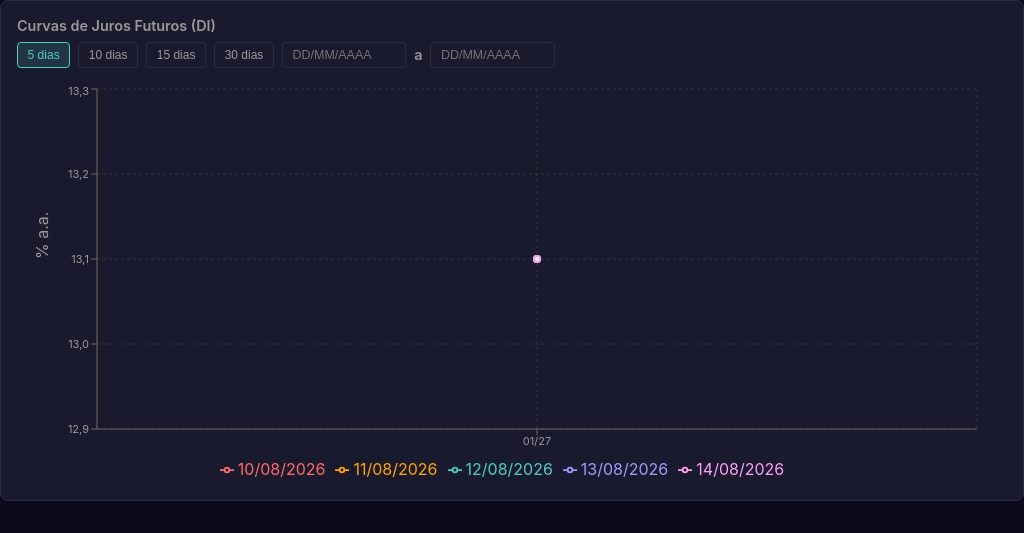
it: YieldCurveChart custom ranges › rejects Data final = 29/02/2026 instead of treating it as a valid boundary
The image size is (1024, 533).
Type "29/02/2026" into the field named "Data final".
click(492, 55); type("29/02/2026")  # box [430,42,555,68]
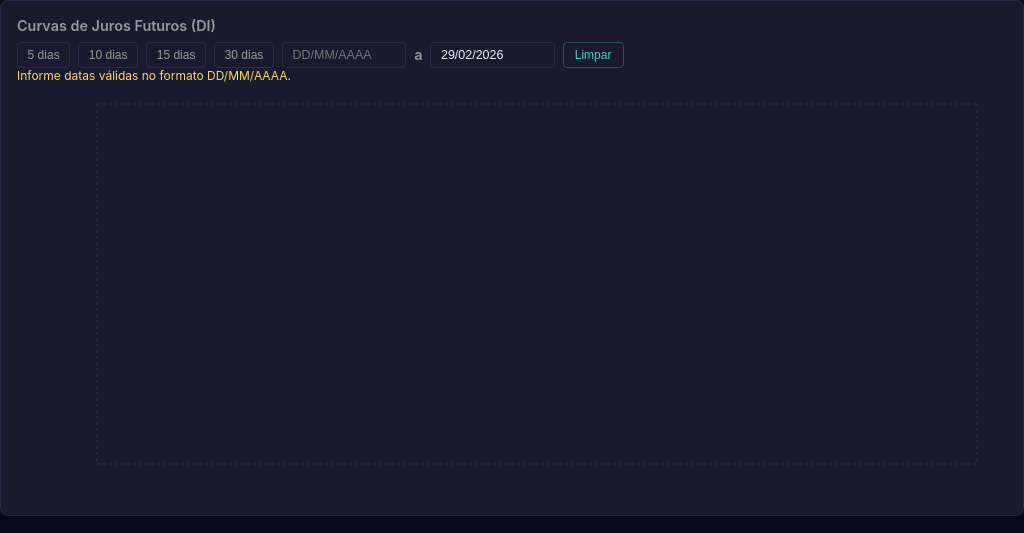
Now the message "Informe datas válidas no formato DD/MM/AAAA." is shown, box [17,68,291,83]
